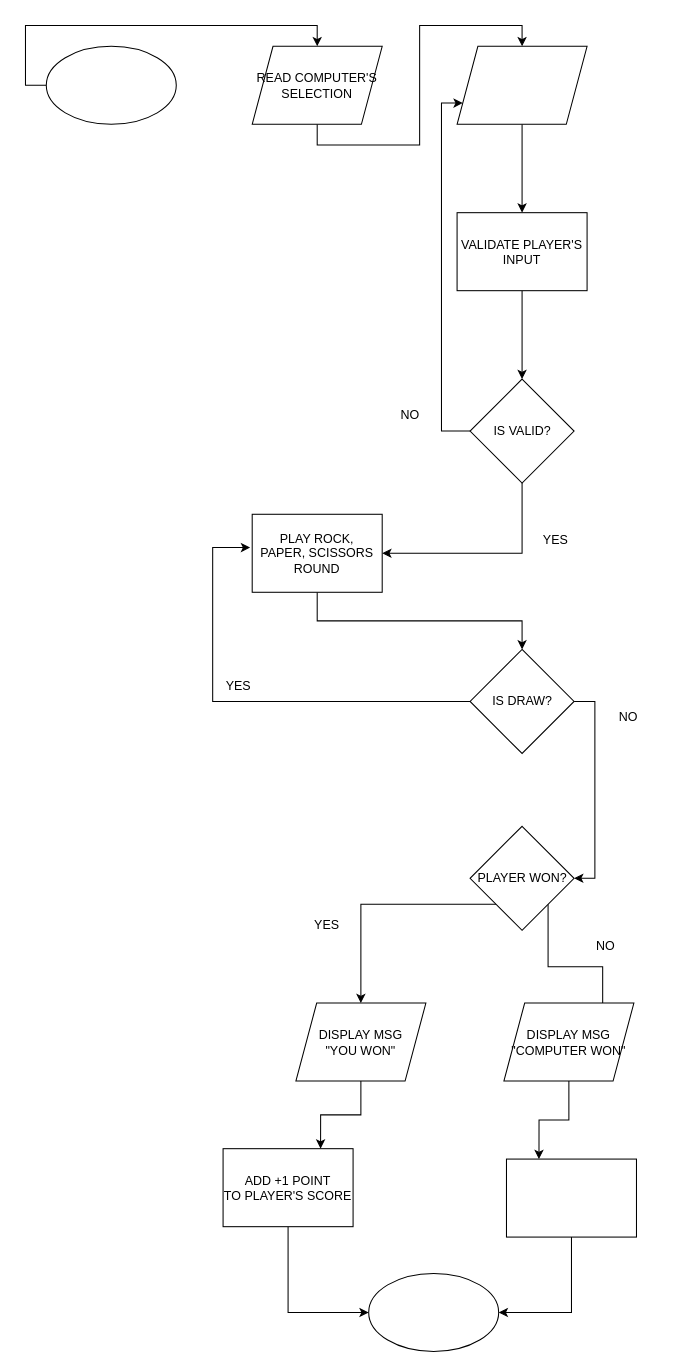
This 678x1370 diagram has some shape labels left out. Each missing label, with the centre of its shape:
"ADD +1 POINT TO COMPUTER'S SCORE" goes at point 570,1197.
"END" goes at point 433,1311.
"GET PLAYER'S INPUT" goes at point 521,84.
"START" goes at point 110,84.
